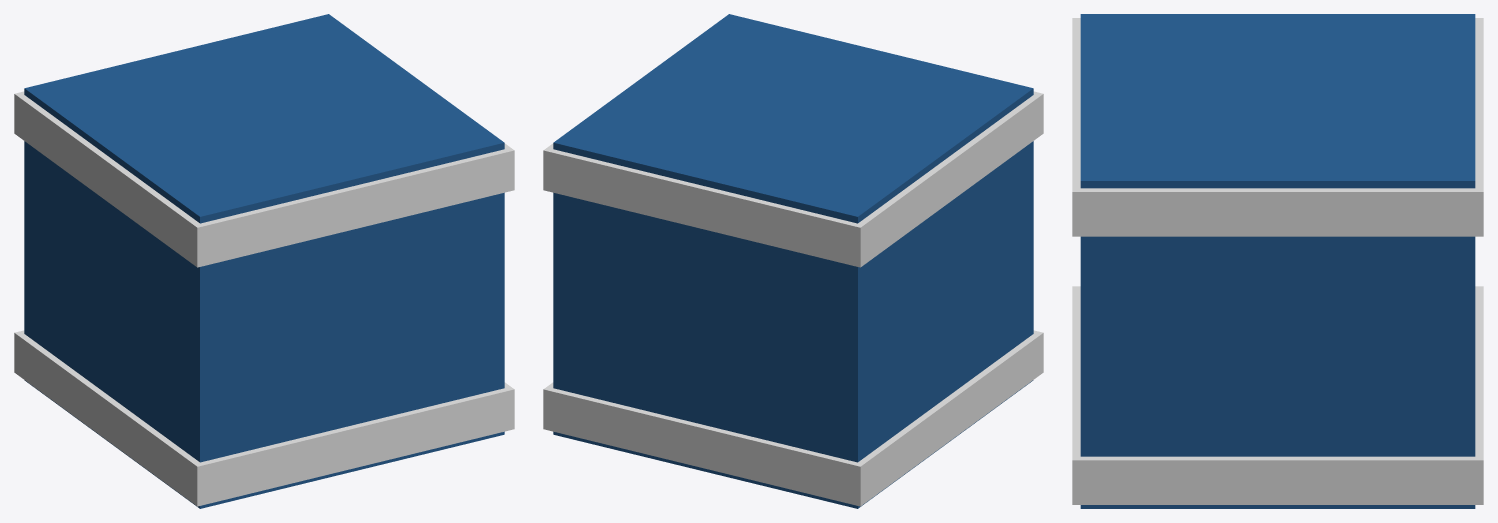
Rendered from angler_tackle_bag.glb.
The picture shows the model from 3 angles, left to right: view 1: azimuth 30°, elevation 25°; view 2: azimuth 150°, elevation 25°; view 3: azimuth 270°, elevation 25°; orthographic projection. The views are drawn at different scales.
Visible parts, largest first — view 1: angler_tackle_bag_v0; view 2: angler_tackle_bag_v0; view 3: angler_tackle_bag_v0.
Part boxes in pixels (x1,y1,x2,y2): angler_tackle_bag_v0: (14, 14, 514, 508); angler_tackle_bag_v0: (543, 14, 1043, 508); angler_tackle_bag_v0: (1072, 14, 1483, 508).
Bounding box in the file's own units: 0.25 × 0.22 × 0.25.
